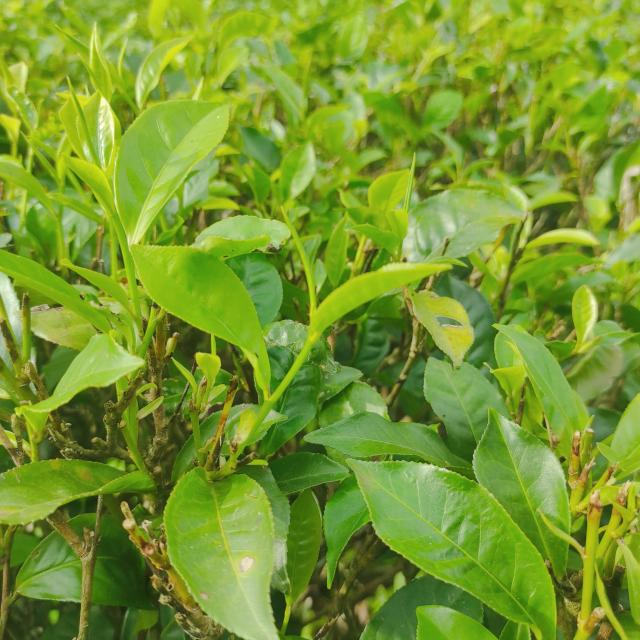unopened_leaf: (274, 200, 327, 336), (62, 69, 104, 172), (18, 125, 64, 190), (397, 144, 425, 217), (167, 354, 203, 396), (111, 35, 137, 86)
